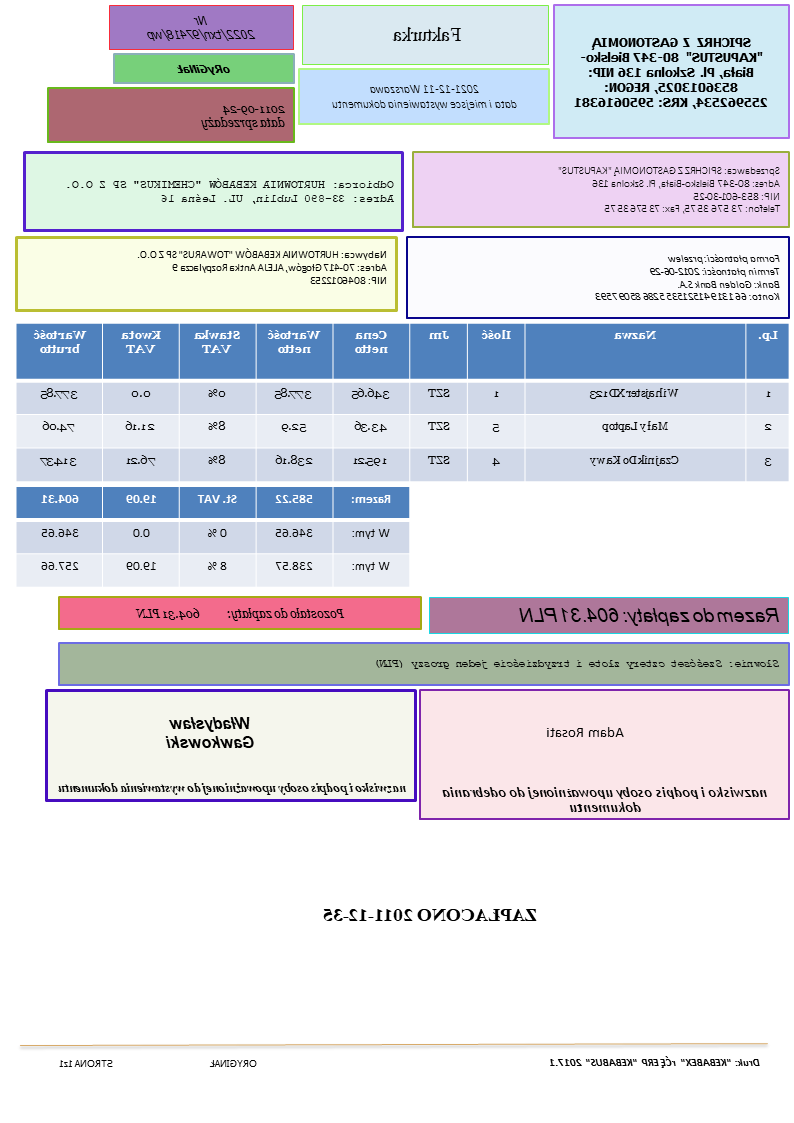Table: (16, 323, 790, 483), (16, 486, 410, 588)
TextBox: (572, 35, 771, 110), (556, 164, 782, 215), (64, 176, 396, 206), (135, 248, 390, 287), (441, 784, 771, 814), (593, 252, 782, 303), (56, 780, 409, 798), (514, 605, 784, 628), (372, 656, 782, 671), (330, 82, 522, 112), (319, 904, 540, 925), (134, 605, 348, 623), (145, 12, 260, 45), (164, 712, 256, 751), (547, 1055, 763, 1070), (199, 104, 288, 133), (391, 25, 464, 45), (545, 725, 628, 740), (175, 61, 234, 78), (58, 1058, 116, 1071), (209, 1057, 260, 1070)
